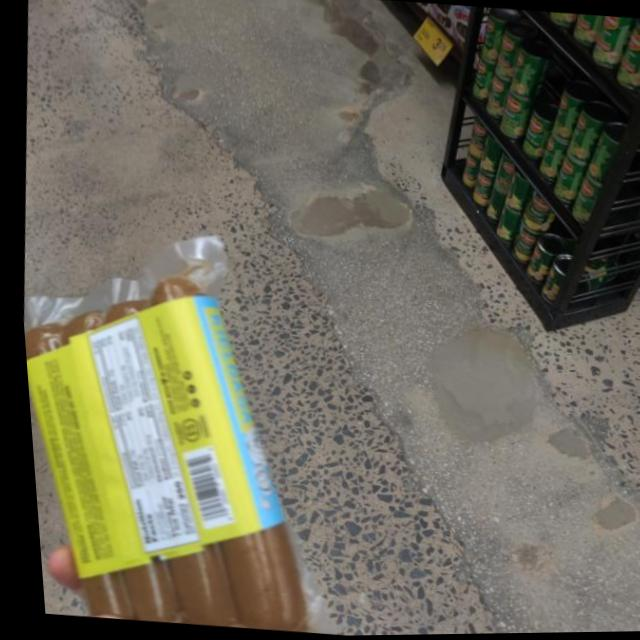Meat: (15, 257, 352, 637)
